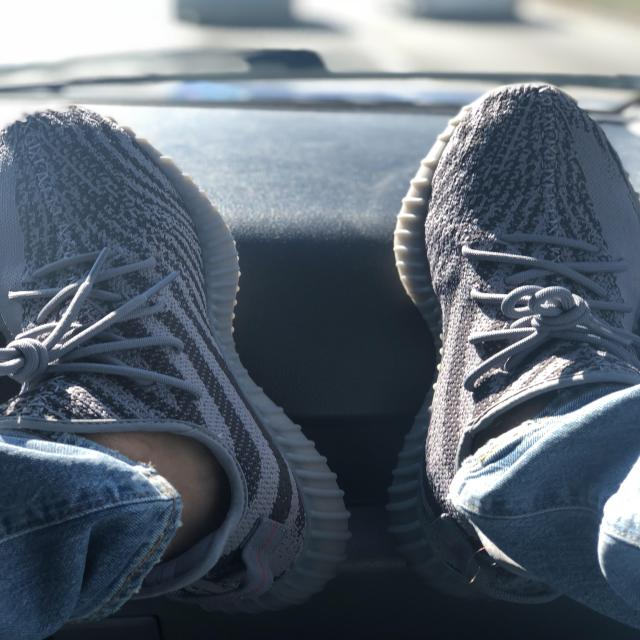shoe: (0, 101, 360, 622), (384, 82, 640, 611)
